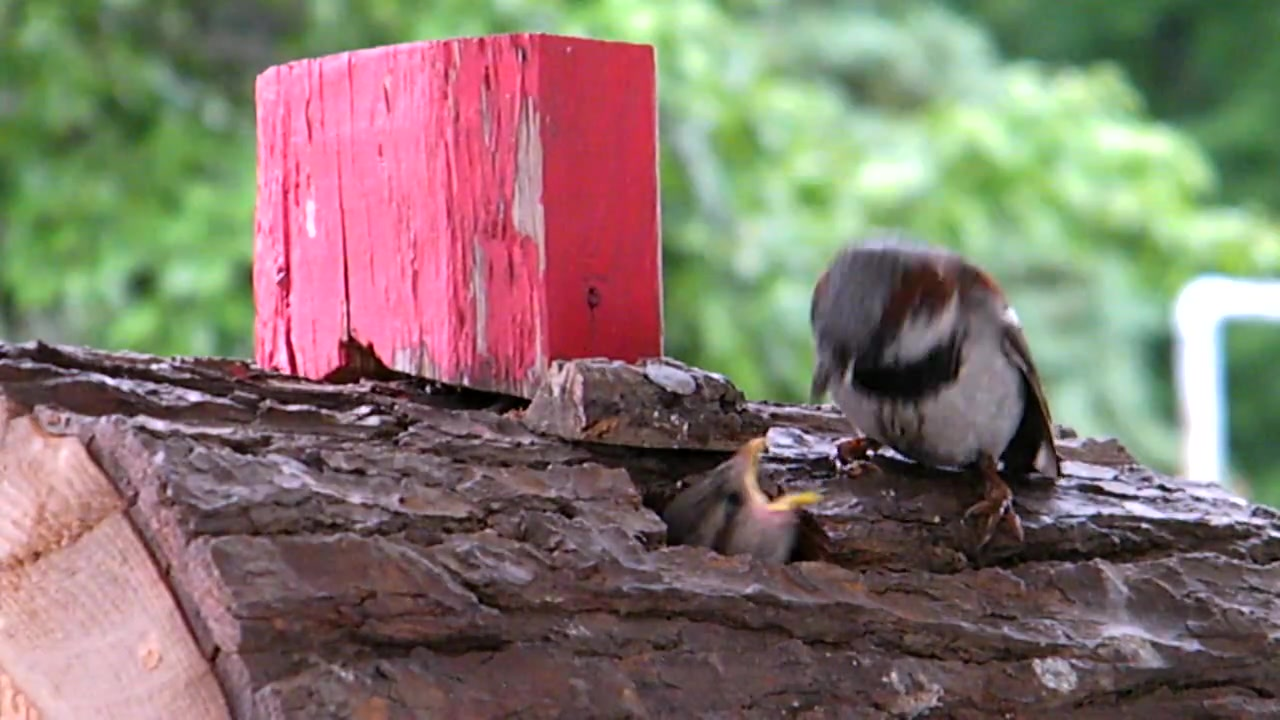bird: (807, 245, 1064, 548)
